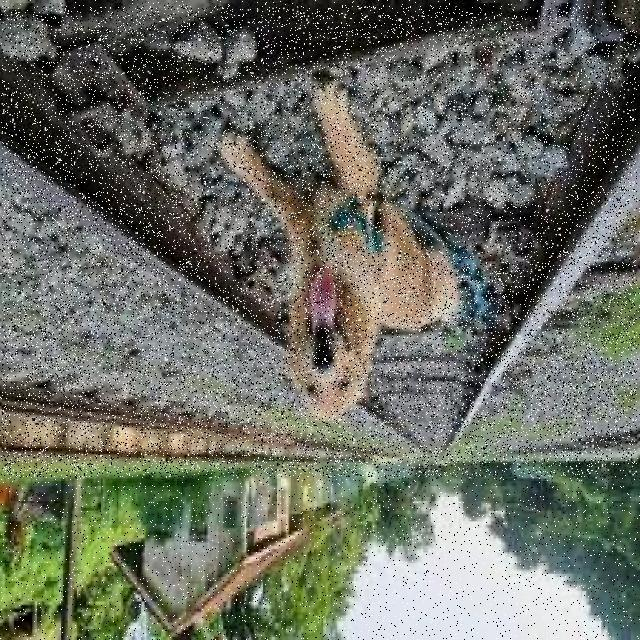danger: (215, 90, 508, 428)
rail: (2, 6, 637, 477)
